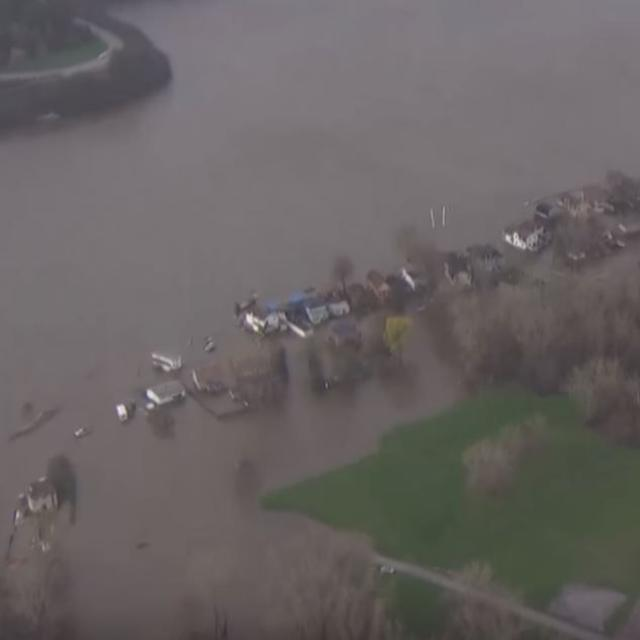flooded_areas: (0, 6, 620, 505)
